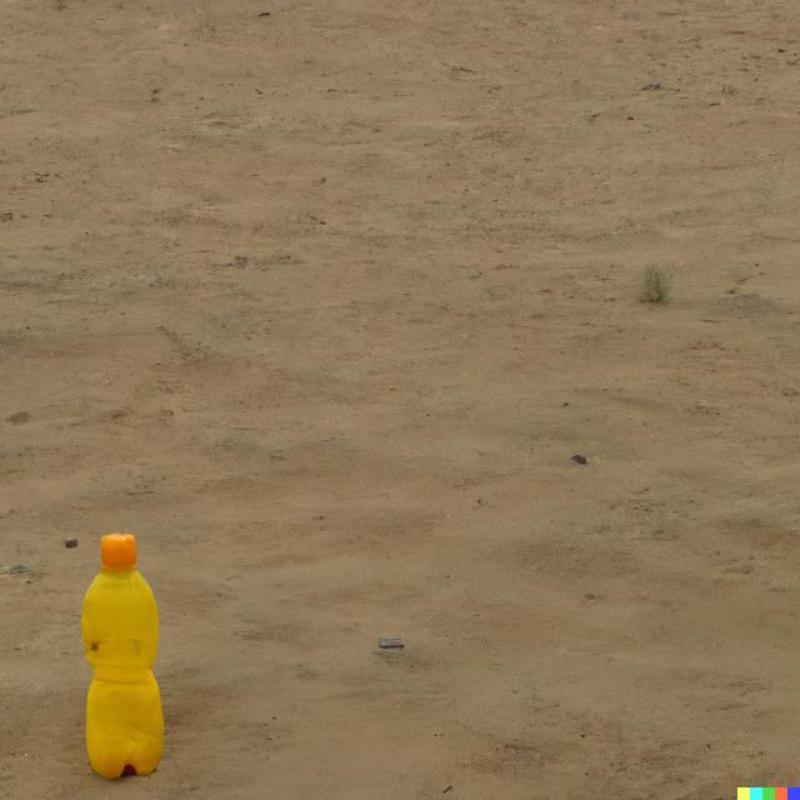botella: (77, 528, 168, 782)
